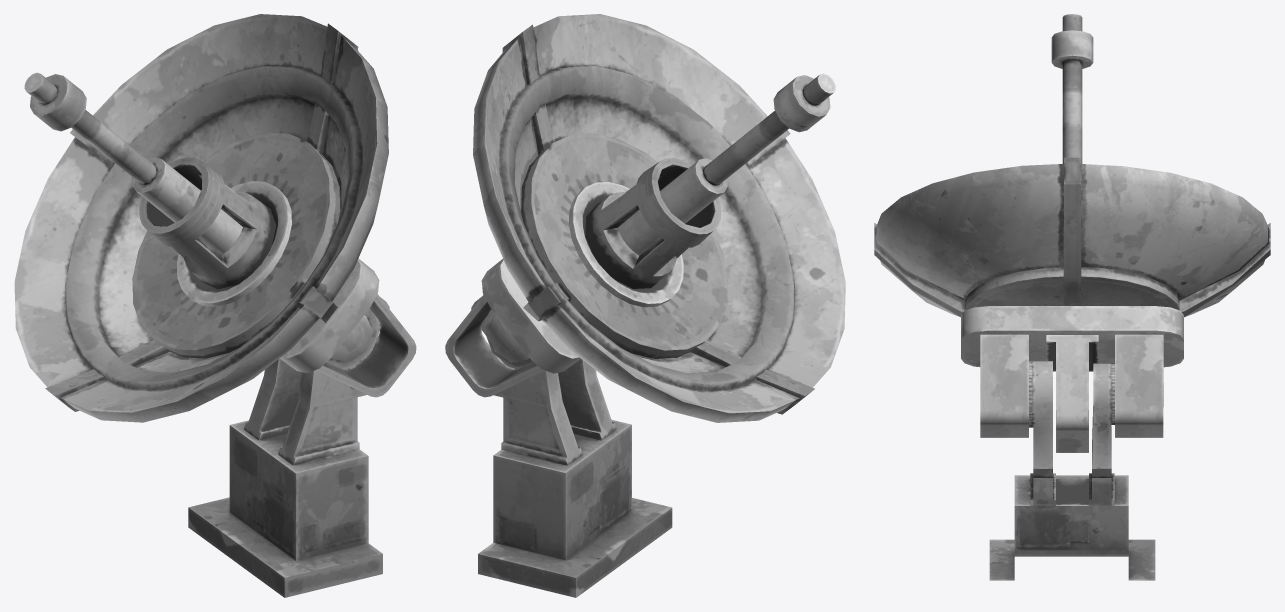
The model's file is Pfb_Radar_01_Temp.fbx.
3 renders of one model, left to right at view 1: azimuth 30°, elevation 25°; view 2: azimuth 150°, elevation 25°; view 3: azimuth 270°, elevation 25°, orthographic. The views are drawn at different scales.
Visible parts, largest first — view 1: Radar 1; view 2: Radar 1; view 3: Radar 1.
Part boxes in pixels (x1,y1,x2,y2): Radar 1: (14, 14, 416, 597); Radar 1: (445, 14, 845, 597); Radar 1: (874, 14, 1270, 580).
Size of the model in its own units: 7.01 by 10.17 by 7.93.
Materials: 1 (1 with a texture image).
